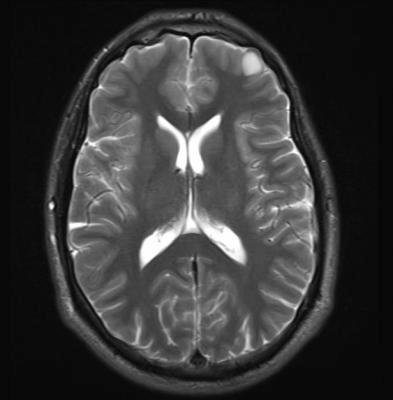Normal_Brain: (1, 2, 393, 400)
